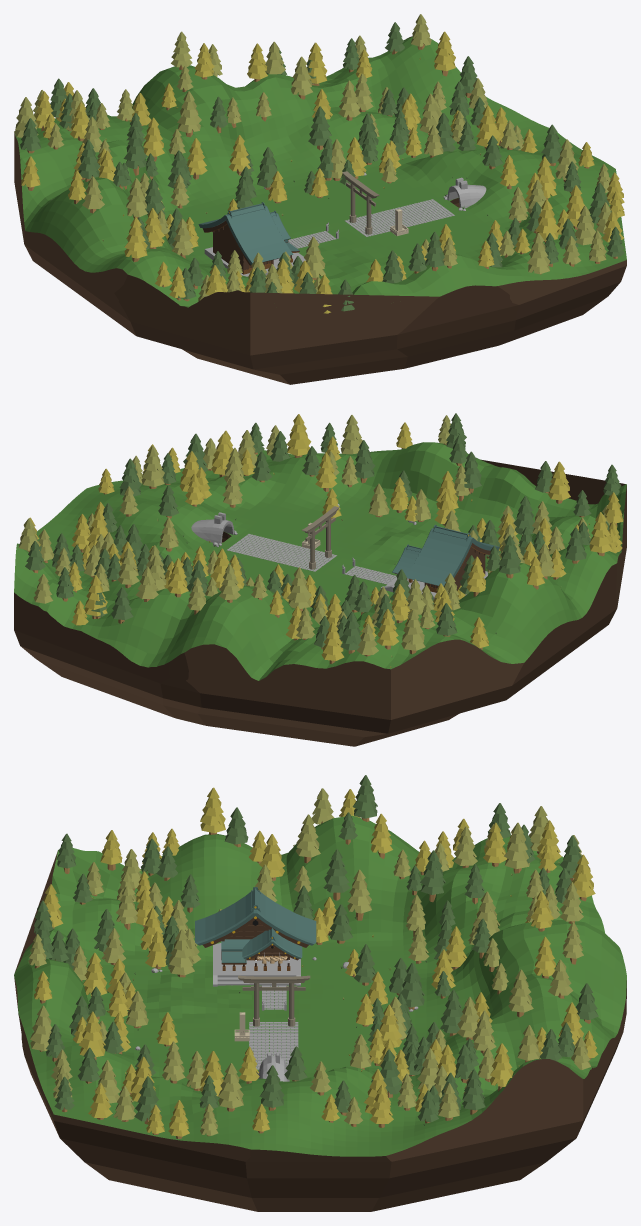
The model's file is 01level_v3.fbx.
The picture shows the model from 3 angles, top to bottom: view 1: azimuth 30°, elevation 25°; view 2: azimuth 150°, elevation 25°; view 3: azimuth 270°, elevation 25°; orthographic projection. The views are drawn at different scales.
Visible parts, largest first — view 1: Ground, Ground.002, 01_Izumo_Taisha, BrickRoad, Shrine, RabbitHole, TeamTree_130.003, TeamTree_123.025, TeamTree_146.021, TeamTree_130.030, TeamTree_123.017, TeamTree_146.007 (+19 smaller); view 2: Ground, Ground.002, 01_Izumo_Taisha, BrickRoad, RabbitHole, Shrine, TeamTree_130.018, TeamTree_123.030, TeamTree_123.025, TeamTree_130.003, TeamTree_130.014, TeamTree_146.022 (+23 smaller); view 3: Ground, Ground.002, 01_Izumo_Taisha, Stair, BrickRoad, Shrine, TeamTree_130.002, TeamTree_130.019, TeamTree_130.014, TeamTree_123.025, TeamTree_146.023, TeamTree_146.021 (+27 smaller).
Boxes of the visible parts, bbox=[...] form: Ground: bbox=[14, 36, 626, 355]; Ground.002: bbox=[24, 245, 626, 384]; 01_Izumo_Taisha: bbox=[198, 202, 299, 274]; BrickRoad: bbox=[344, 199, 454, 236]; Shrine: bbox=[342, 171, 379, 234]; RabbitHole: bbox=[447, 177, 486, 208]; TeamTree_130.003: bbox=[177, 91, 201, 137]; TeamTree_123.025: bbox=[124, 217, 147, 262]; TeamTree_146.021: bbox=[123, 128, 147, 175]; TeamTree_130.030: bbox=[527, 233, 550, 274]; TeamTree_123.017: bbox=[434, 31, 455, 76]; TeamTree_146.007: bbox=[308, 106, 332, 149]; Ground: bbox=[14, 442, 626, 719]; Ground.002: bbox=[14, 609, 616, 746]; 01_Izumo_Taisha: bbox=[392, 524, 499, 592]; BrickRoad: bbox=[227, 534, 336, 571]; RabbitHole: bbox=[191, 512, 234, 543]; Shrine: bbox=[302, 506, 339, 569]; TeamTree_130.018: bbox=[401, 609, 425, 654]; TeamTree_123.030: bbox=[286, 414, 311, 457]; TeamTree_123.025: bbox=[589, 512, 612, 556]; TeamTree_130.003: bbox=[287, 567, 311, 611]; TeamTree_130.014: bbox=[141, 446, 164, 488]; TeamTree_146.022: bbox=[498, 535, 521, 578]; Ground: bbox=[14, 815, 626, 1161]; Ground.002: bbox=[24, 1036, 621, 1211]; 01_Izumo_Taisha: bbox=[195, 887, 316, 970]; Stair: bbox=[213, 943, 300, 986]; BrickRoad: bbox=[249, 1022, 298, 1069]; Shrine: bbox=[238, 975, 310, 1026]; TeamTree_130.002: bbox=[168, 929, 194, 977]; TeamTree_130.019: bbox=[504, 822, 530, 873]; TeamTree_130.014: bbox=[218, 1063, 243, 1111]; TeamTree_123.025: bbox=[200, 787, 225, 834]; TeamTree_146.023: bbox=[323, 849, 350, 900]; TeamTree_146.021: bbox=[420, 850, 445, 902].
Bounding box in the file's own units: 16755 × 5646 × 15591.
